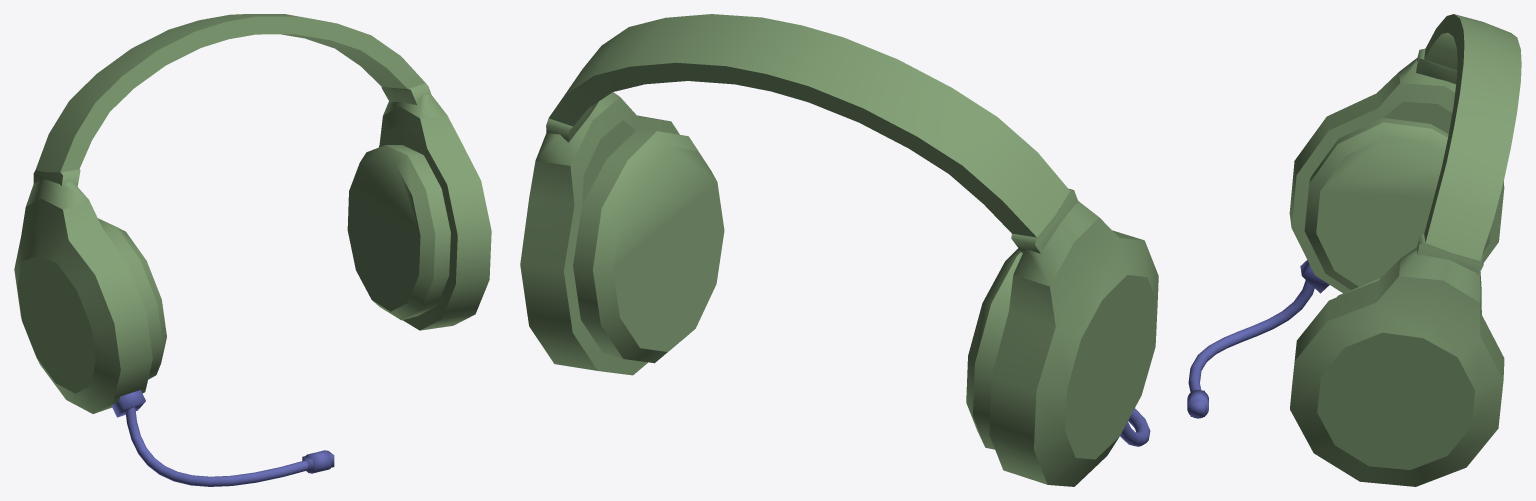
The model's file is HeadSet2.fbx.
3 renders of one model, left to right at view 1: azimuth 30°, elevation 25°; view 2: azimuth 150°, elevation 25°; view 3: azimuth 270°, elevation 25°, orthographic. The views are drawn at different scales.
Visible parts, largest first — view 1: HeadSet; view 2: HeadSet; view 3: HeadSet.
Boxes of the visible parts, x1,y1,x2,y2 form: HeadSet: (14, 14, 491, 486); HeadSet: (520, 14, 1158, 486); HeadSet: (1187, 14, 1521, 486).
Size of the model in its own units: 90.33 by 74.05 by 58.35.
